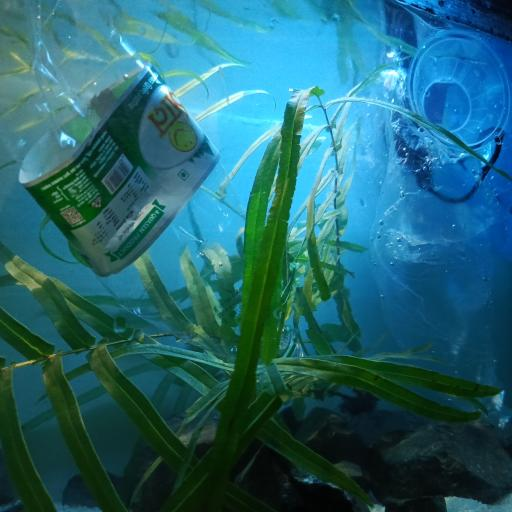plastic_bottle: (1, 0, 244, 335)
plastic_cup: (353, 0, 512, 421), (412, 34, 512, 152)
